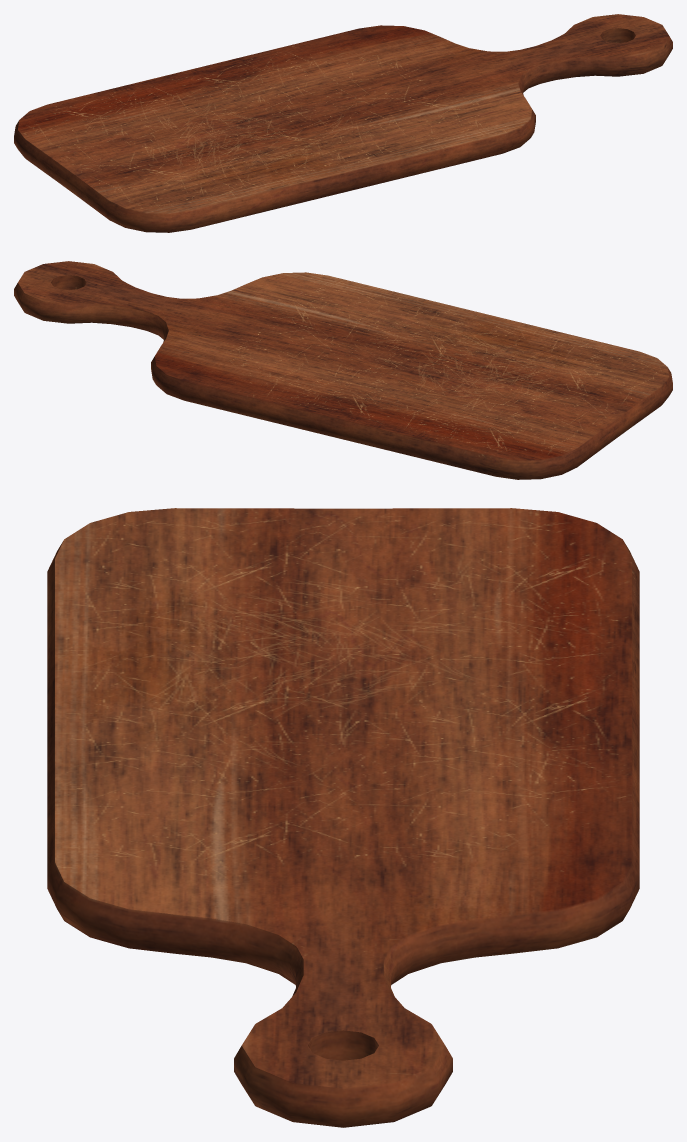
File: CuttingBoard.fbx
3 views of the same model, one above another, from view 1: azimuth 30°, elevation 25°; view 2: azimuth 150°, elevation 25°; view 3: azimuth 270°, elevation 25° (orthographic). The views are drawn at different scales.
Visible parts, largest first — view 1: chopping_board; view 2: chopping_board; view 3: chopping_board.
Part boxes in pixels (x1,y1,x2,y2): chopping_board: [14, 14, 672, 232]; chopping_board: [14, 261, 672, 479]; chopping_board: [47, 508, 639, 1127].
Bounding box in the file's own units: 57.95 × 1.8 × 24.7.
1 material, 1 textured.
